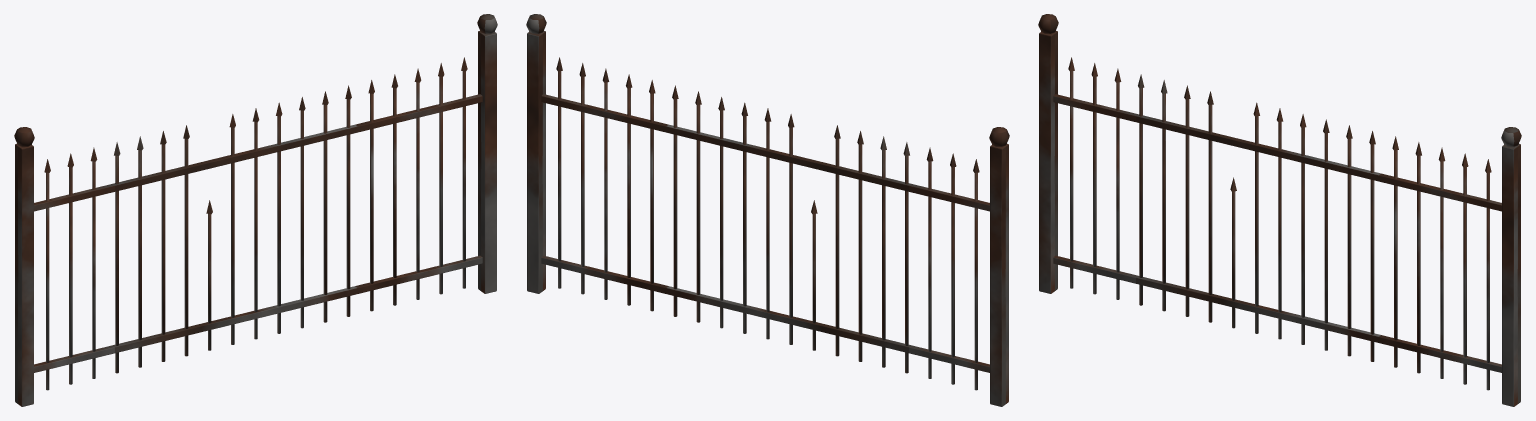
The model's file is R22_iron_fence_section.glb.
The picture shows the model from 3 angles, left to right: view 1: azimuth 30°, elevation 25°; view 2: azimuth 150°, elevation 25°; view 3: azimuth 330°, elevation 25°; orthographic projection.
Visible parts, largest first — view 1: R22_iron_fence_section; view 2: R22_iron_fence_section; view 3: R22_iron_fence_section.
Boxes of the visible parts, x1,y1,x2,y2 form: R22_iron_fence_section: (14, 14, 497, 406); R22_iron_fence_section: (526, 14, 1009, 406); R22_iron_fence_section: (1038, 14, 1521, 406).
Bounding box in the file's own units: 3 × 1.64 × 0.1154.
1 material, 1 textured.
